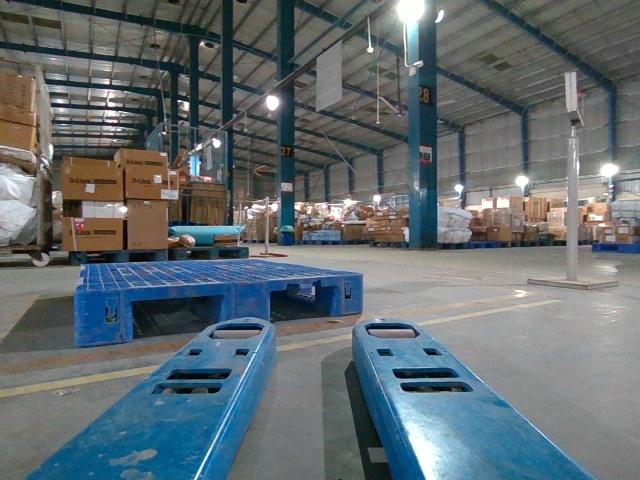block: (75, 287, 134, 348), (223, 281, 271, 324), (338, 273, 364, 316)
front: (74, 272, 363, 345)
hole pallet: (129, 297, 221, 340), (271, 288, 335, 323)
